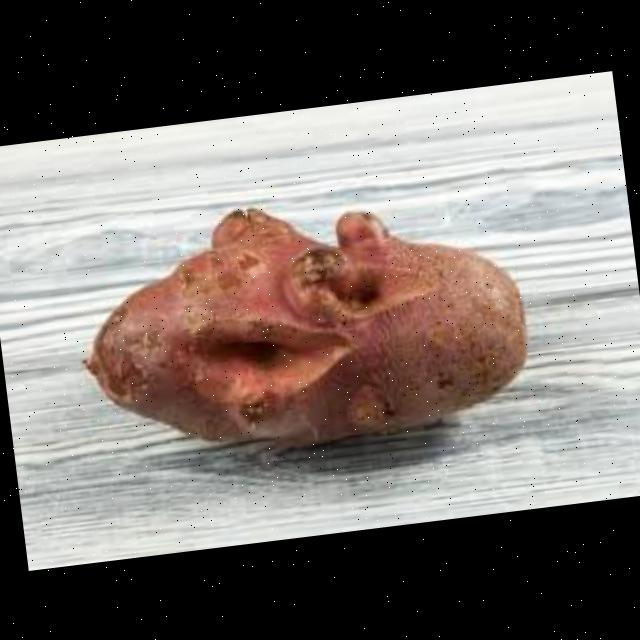Damaged potato: (70, 172, 540, 470)
